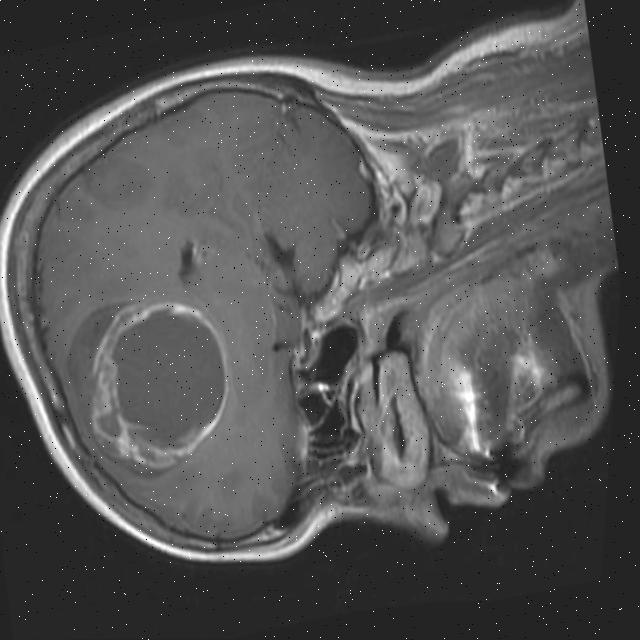Glioma: (63, 284, 252, 483)
